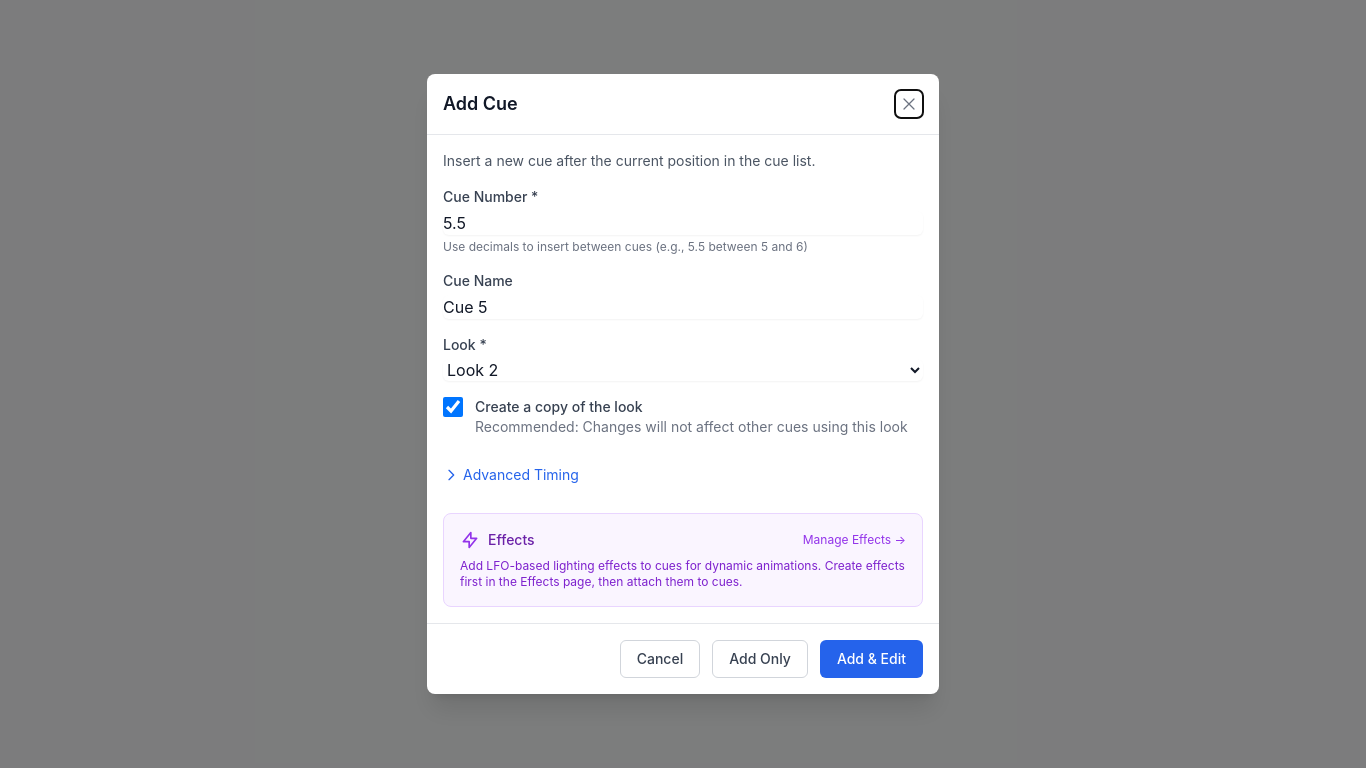
Test: AddCueDialog › Validation › shows error for negative fade times
The image size is (1366, 768).
Note: Show advanced timing
Click the button "Advanced Timing": x=511, y=475 x1=443 y1=453 x2=579 y2=497
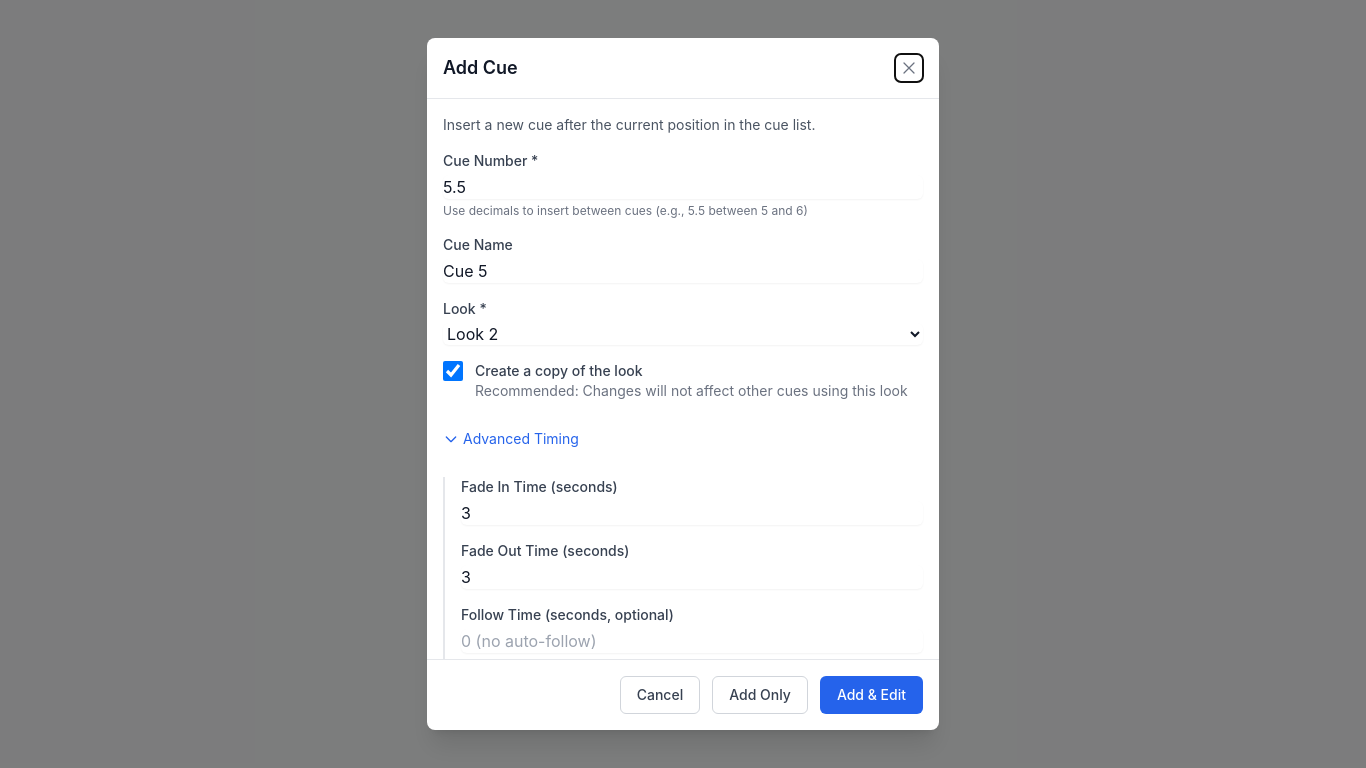
Replace the text in the field labelled "Fade In Time (seconds)" with "-1": x=692, y=513 x1=461 y1=501 x2=923 y2=525
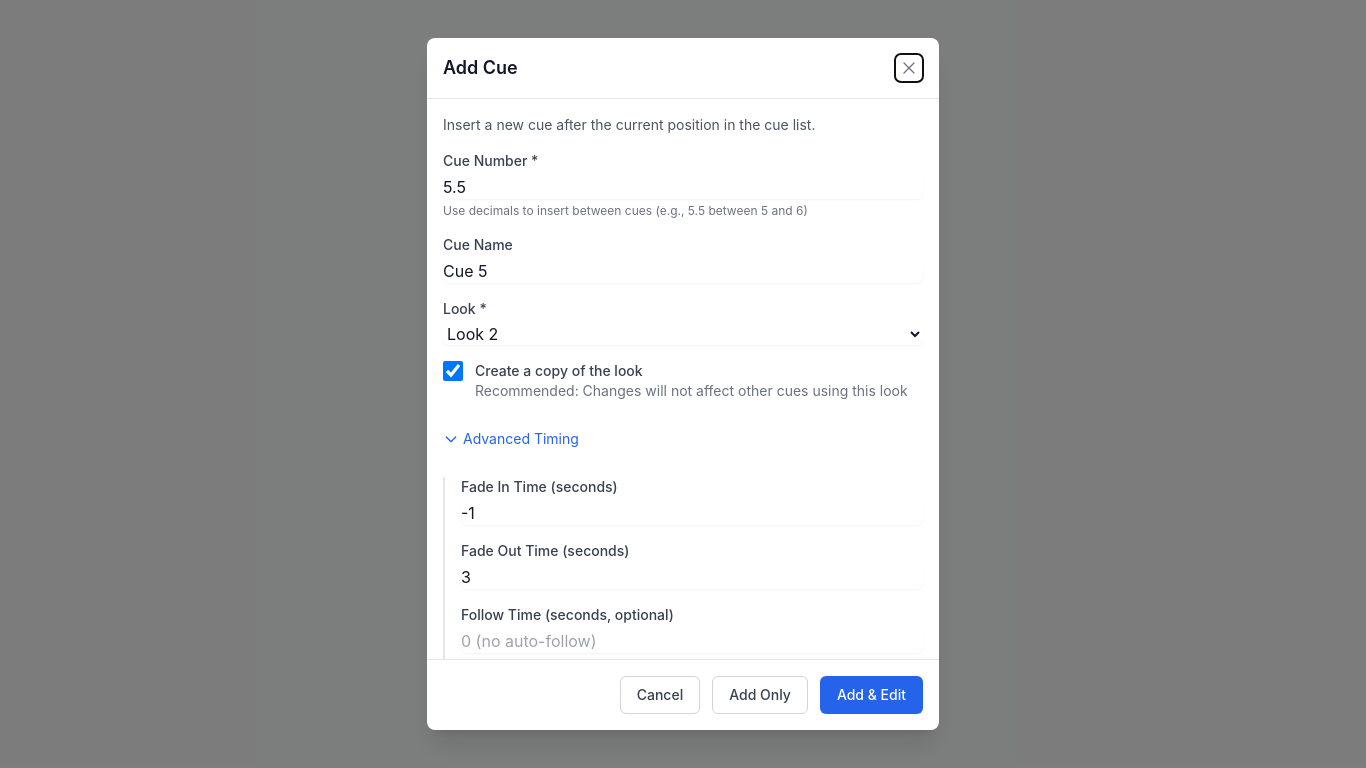
Click the button "Add & Edit": x=871, y=695 x1=820 y1=676 x2=923 y2=714
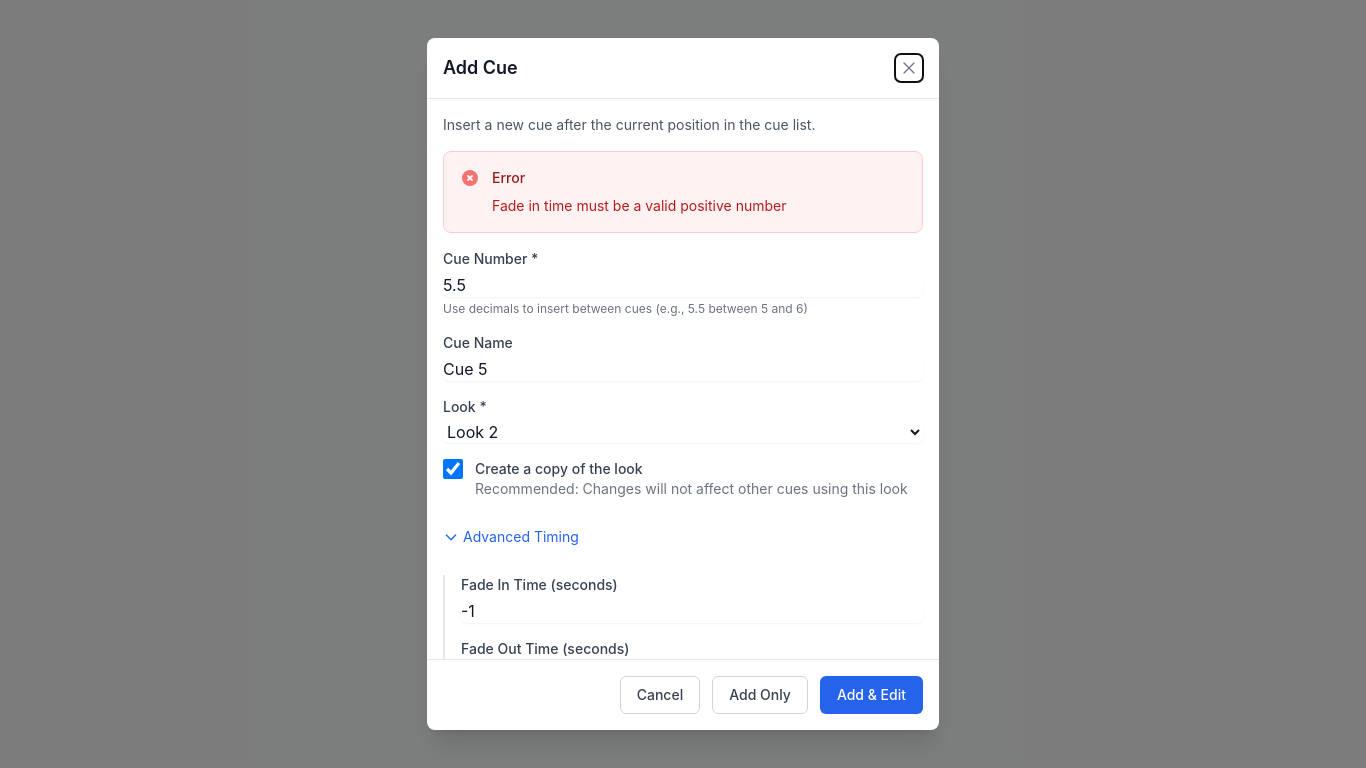
Result: the text "Fade in time must be a valid positive number" is shown at x1=492 y1=196 x2=786 y2=216
